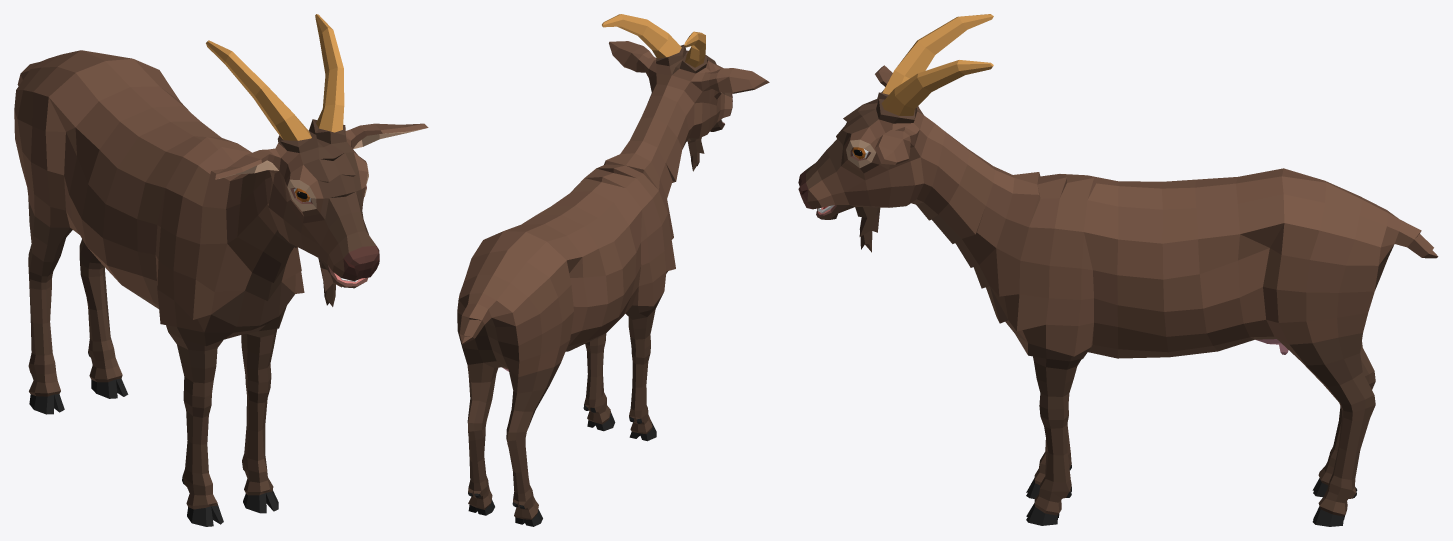
The model's file is LowPoly_Goat_Fem_6.obj.
3 views of the same model, side by side, from view 1: azimuth 30°, elevation 25°; view 2: azimuth 150°, elevation 25°; view 3: azimuth 270°, elevation 25° (orthographic). The views are drawn at different scales.
Visible parts, largest first — view 1: Goat_Fem_6_Cube.005; view 2: Goat_Fem_6_Cube.005; view 3: Goat_Fem_6_Cube.005.
Part boxes in pixels (left/top/right/bottom): Goat_Fem_6_Cube.005: left=14, top=14, right=428, bottom=526; Goat_Fem_6_Cube.005: left=457, top=14, right=769, bottom=526; Goat_Fem_6_Cube.005: left=798, top=14, right=1438, bottom=526.
Bounding box in the file's own units: 0.421 × 0.9535 × 1.18.
